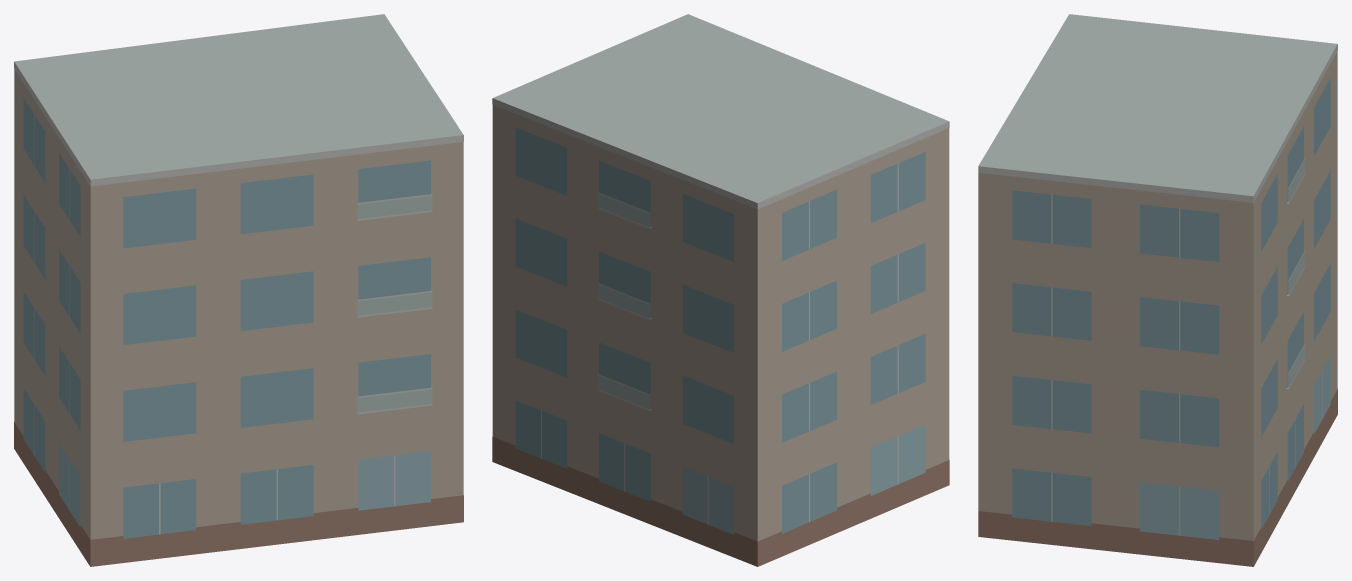
The model's file is survey-upis-32711202.glb.
3 views of the same model, side by side, from view 1: azimuth 30°, elevation 25°; view 2: azimuth 150°, elevation 25°; view 3: azimuth 270°, elevation 25° (orthographic). The views are drawn at different scales.
Visible parts, largest first — view 1: survey-upis-32711202.tmp; view 2: survey-upis-32711202.tmp; view 3: survey-upis-32711202.tmp.
Part boxes in pixels (x1,y1,x2,y2): survey-upis-32711202.tmp: (14, 14, 463, 566); survey-upis-32711202.tmp: (492, 14, 949, 566); survey-upis-32711202.tmp: (978, 14, 1337, 566).
Bounding box in the file's own units: 14.56 × 13.8 × 12.14.
